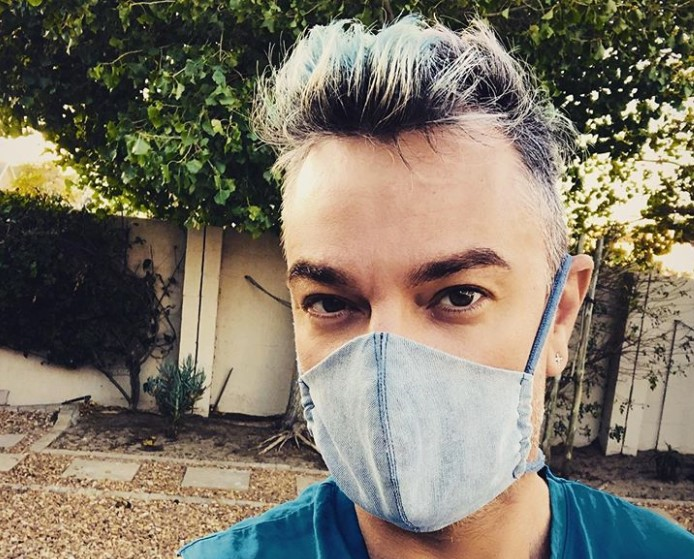face_with_mask: (281, 71, 592, 529)
